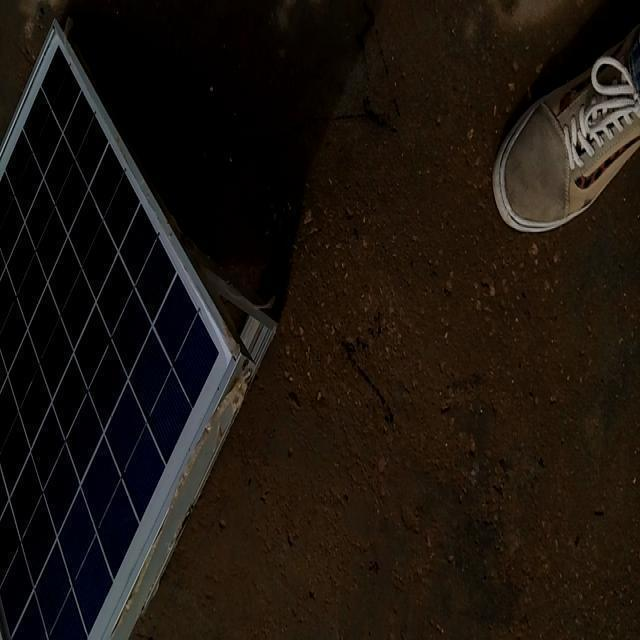Normal Solar Panel: (0, 28, 234, 640)
